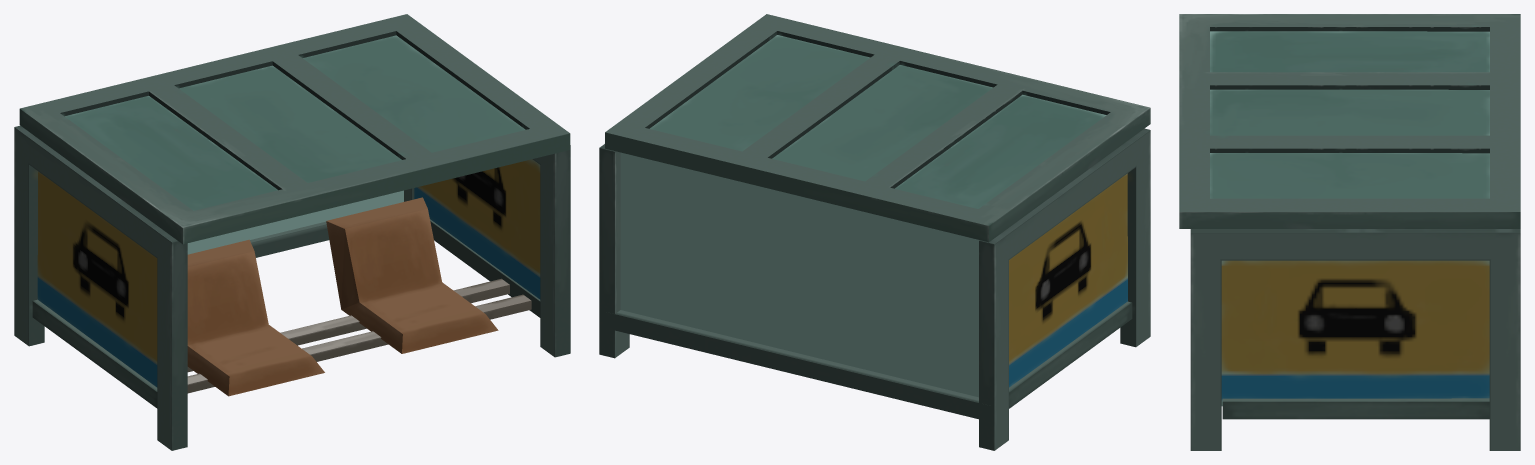
Rendered from wj_hct.FBX.
3 renders of one model, left to right at view 1: azimuth 30°, elevation 25°; view 2: azimuth 150°, elevation 25°; view 3: azimuth 270°, elevation 25°, orthographic. The views are drawn at different scales.
Parts seen in each view (by area): view 1: wj_hct; view 2: wj_hct; view 3: wj_hct.
Part boxes in pixels (x1,y1,x2,y2): wj_hct: (14, 14, 570, 450); wj_hct: (599, 14, 1150, 450); wj_hct: (1179, 14, 1520, 450).
Bounding box in the file's own units: 50.63 × 35.88 × 27.38.
